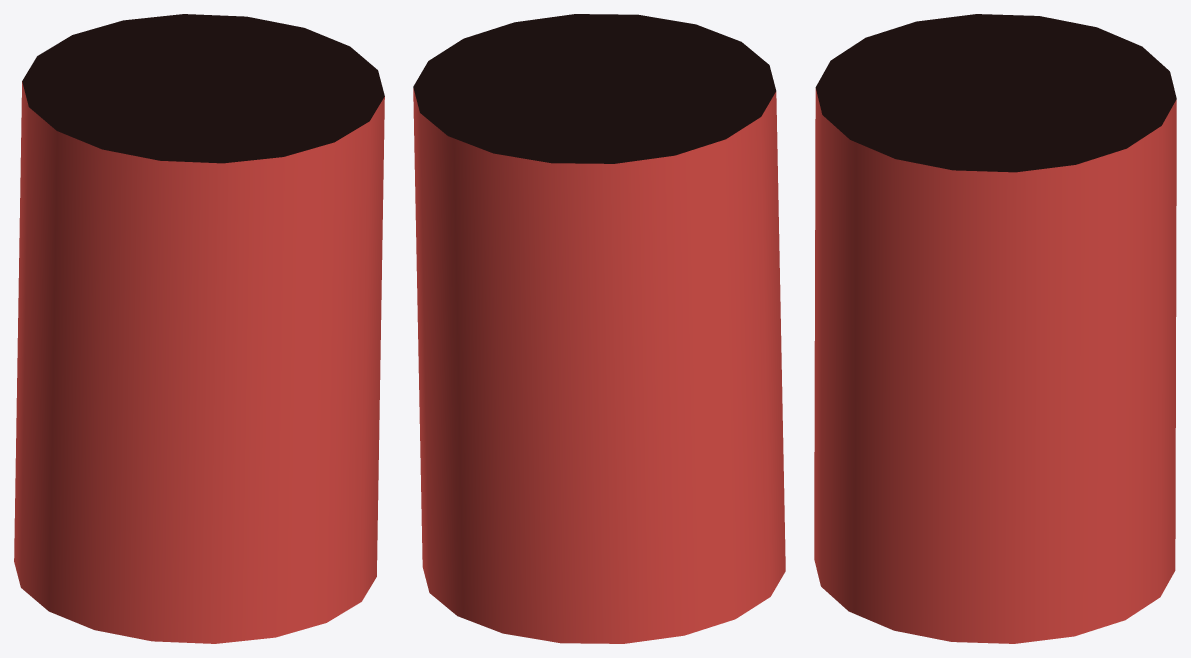
File: ToxicBarrel_Prop.fbx
3 renders of one model, left to right at view 1: azimuth 30°, elevation 25°; view 2: azimuth 150°, elevation 25°; view 3: azimuth 270°, elevation 25°, orthographic.
Visible parts, largest first — view 1: Cylinder001; view 2: Cylinder001; view 3: Cylinder001.
Part boxes in pixels (box(x1,y1,x2,y2)): Cylinder001: box(14, 14, 384, 643); Cylinder001: box(413, 14, 785, 643); Cylinder001: box(814, 14, 1176, 643).
Size of the model in its own units: 2.59 by 3.72 by 2.54.
